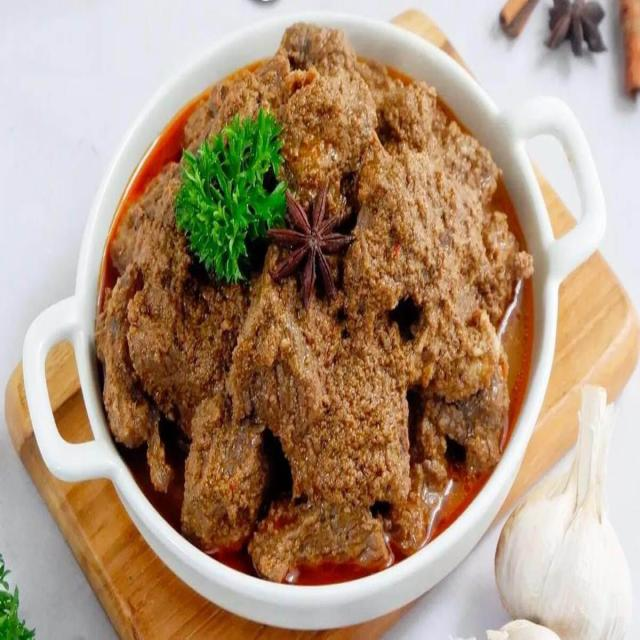Rendang: (67, 27, 548, 569)
